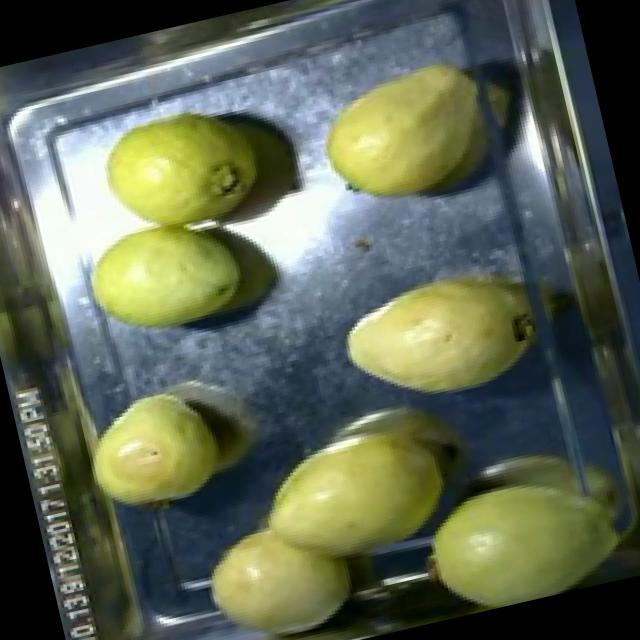Fruit: (237, 380, 480, 593), (391, 418, 640, 624), (75, 65, 322, 264), (323, 243, 554, 427), (298, 40, 519, 228), (62, 187, 274, 359), (68, 365, 240, 532), (185, 495, 375, 640)
